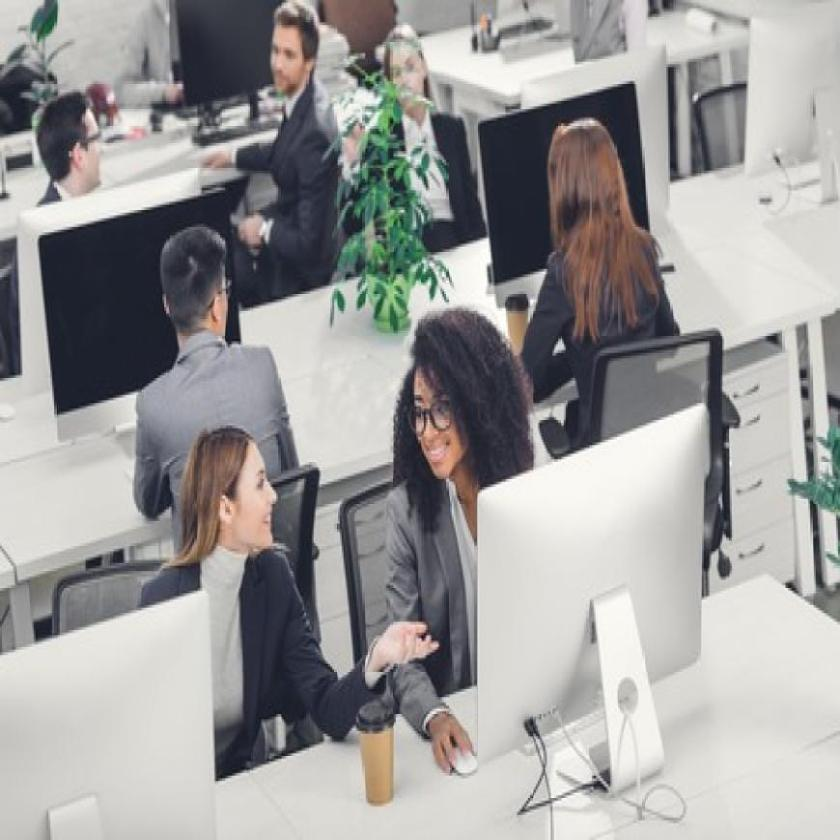Sin_casco: (395, 310, 494, 496), (182, 420, 281, 567), (540, 117, 626, 251), (161, 224, 237, 354), (31, 85, 109, 211), (267, 0, 322, 116), (377, 15, 432, 126)
